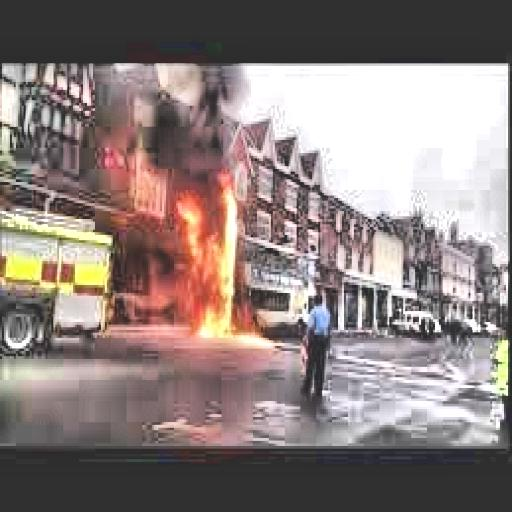fire: (166, 174, 283, 354)
